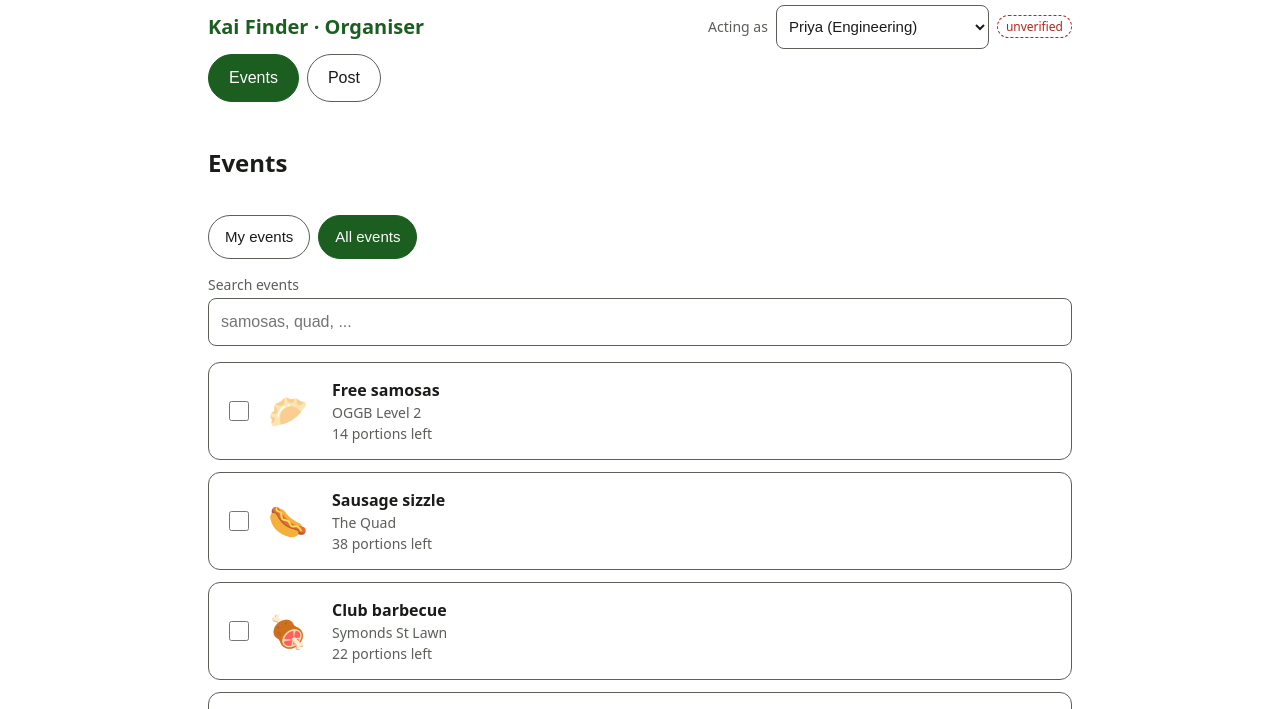
Test: organisers › narrows to the acting organiser's own events
The image size is (1280, 709).
Expected: the heading "Free samosas" is shown, [332,379,440,401]
Click the button "My events" at (259, 237), box [208,215,310,259]
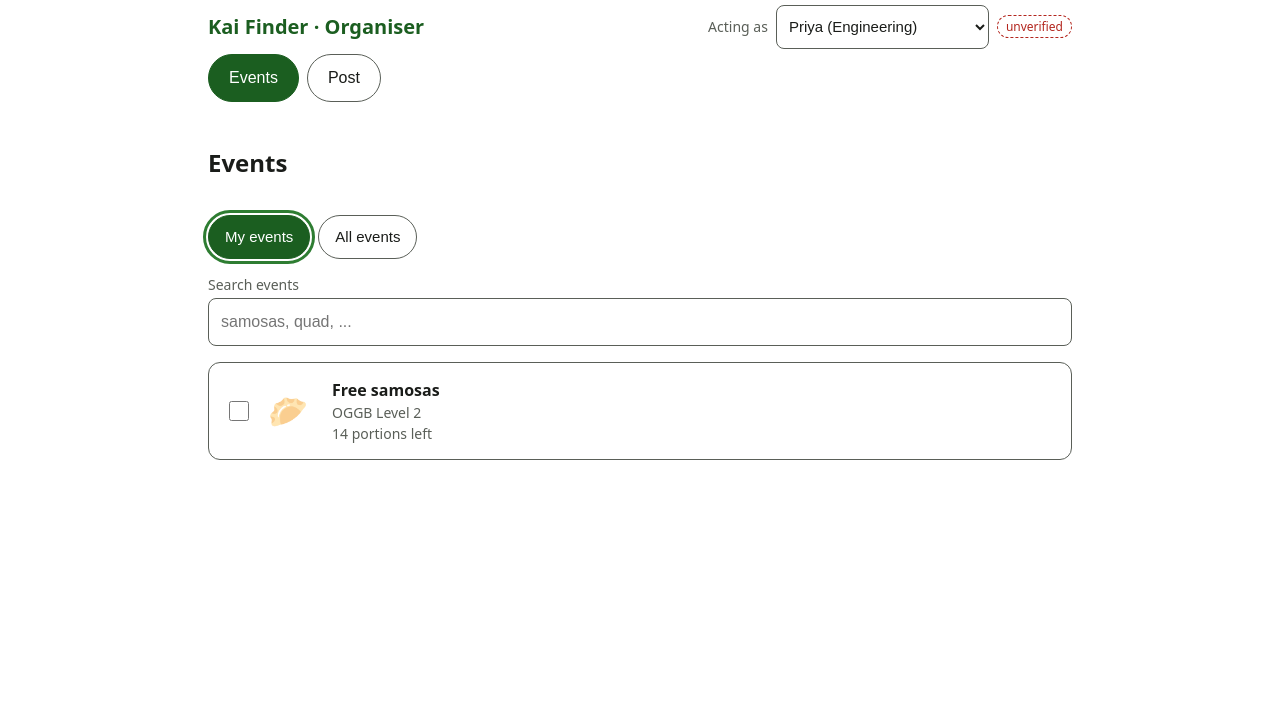
Expected: the heading "Free samosas" is shown, [332,379,440,401]
Result: the heading "Sausage sizzle" is gone
